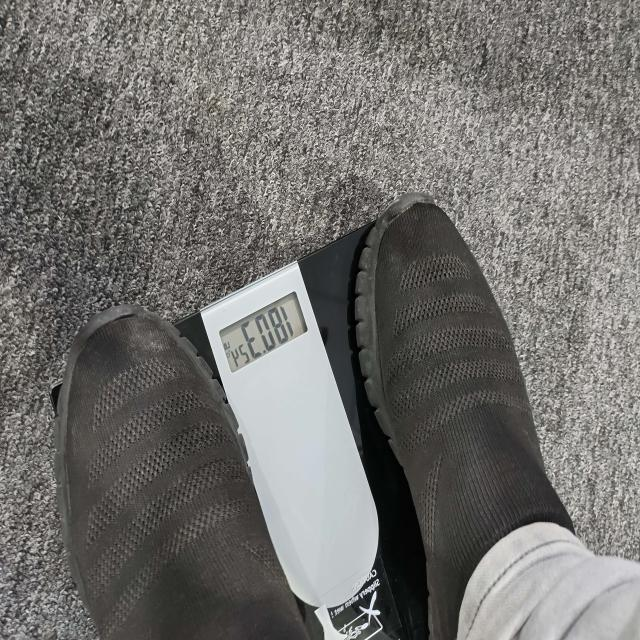ws: (177, 258, 380, 611)
